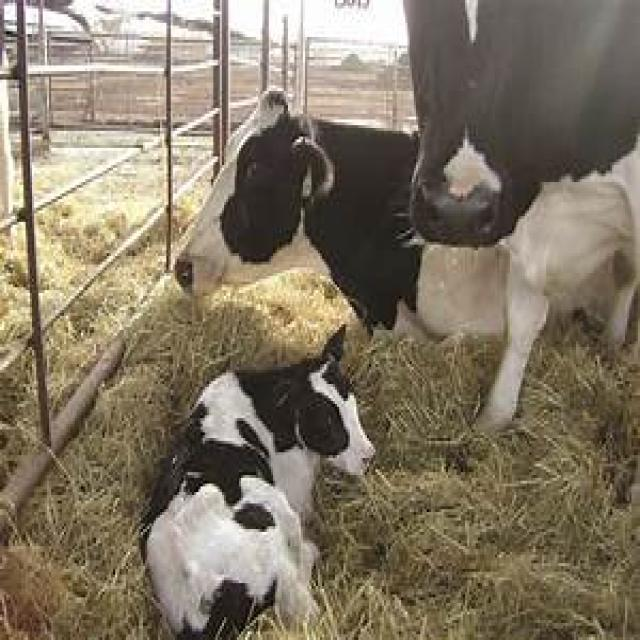animal: (171, 86, 638, 436), (137, 322, 376, 637)
